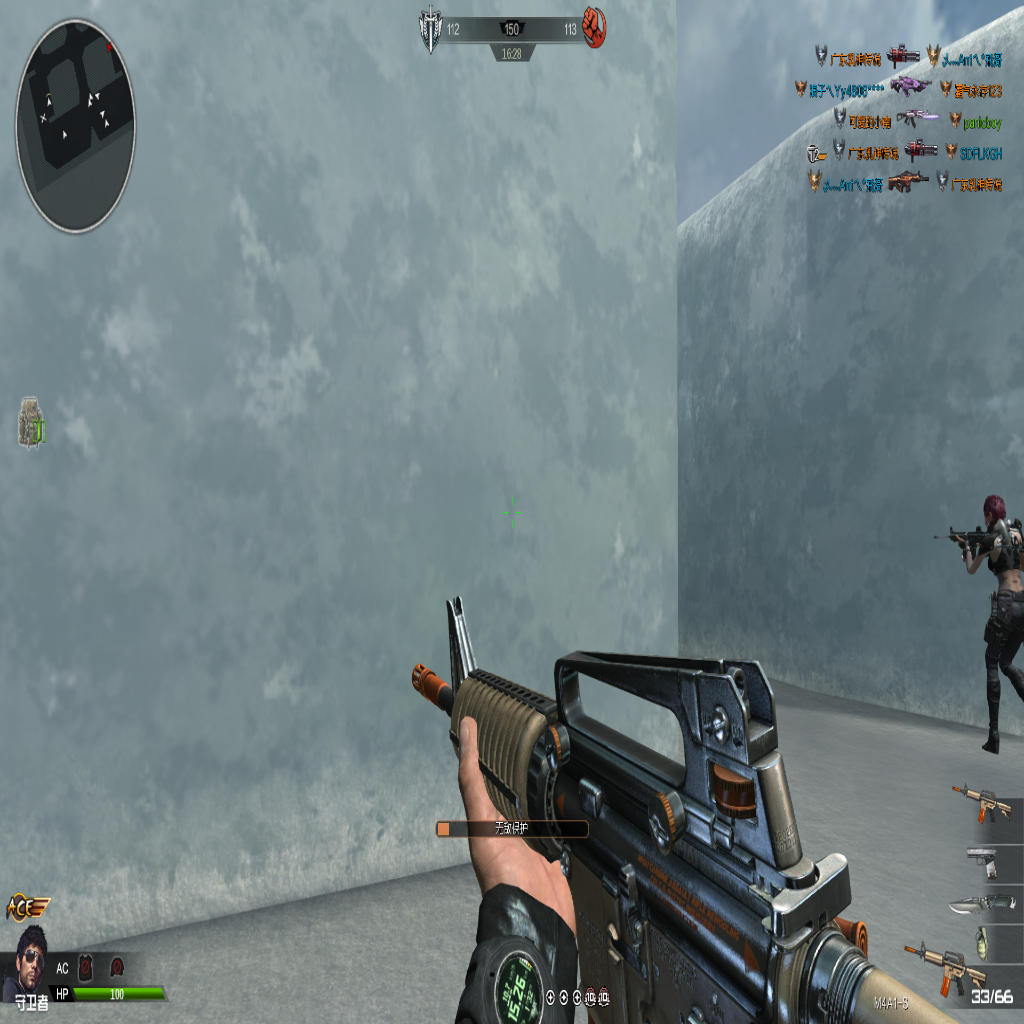ct: (946, 493, 1024, 772)
